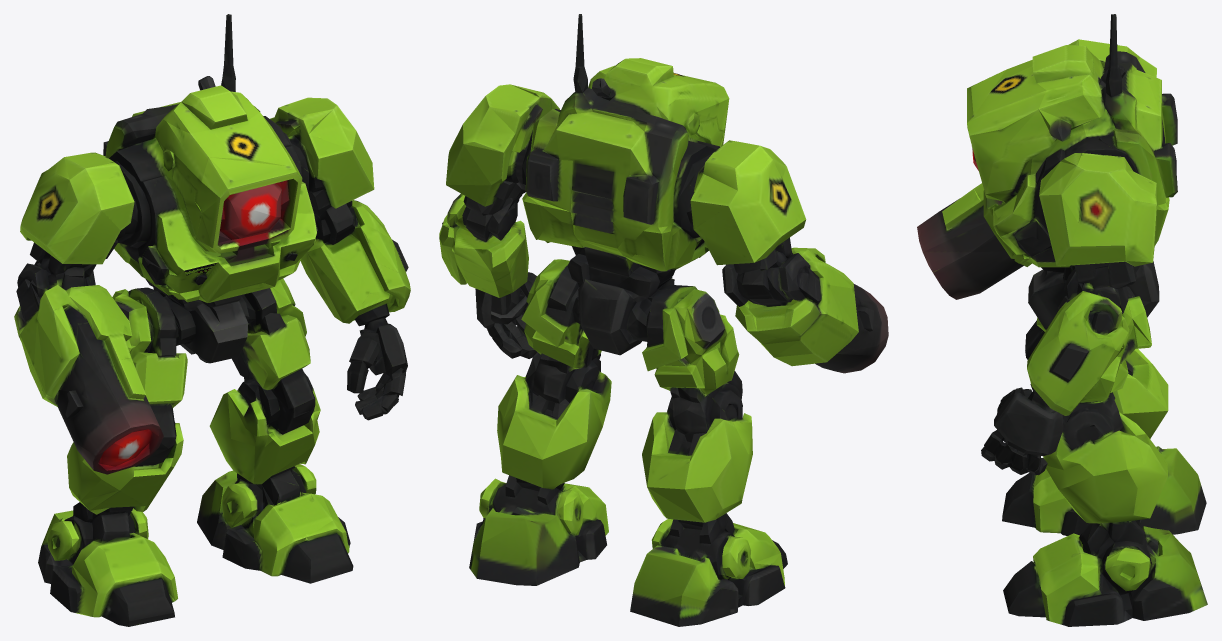
Rendered from shooter_meshy_raw.fbx.
3 renders of one model, left to right at view 1: azimuth 30°, elevation 25°; view 2: azimuth 150°, elevation 25°; view 3: azimuth 270°, elevation 25°, orthographic. The views are drawn at different scales.
Parts seen in each view (by area): view 1: output_unwrapped; view 2: output_unwrapped; view 3: output_unwrapped.
Boxes of the visible parts, x1,y1,x2,y2 form: output_unwrapped: (14, 14, 410, 626); output_unwrapped: (439, 14, 888, 626); output_unwrapped: (917, 14, 1207, 626).
Bounding box in the file's own units: 141 × 190 × 89.12.
Materials: 1 (1 with a texture image).
